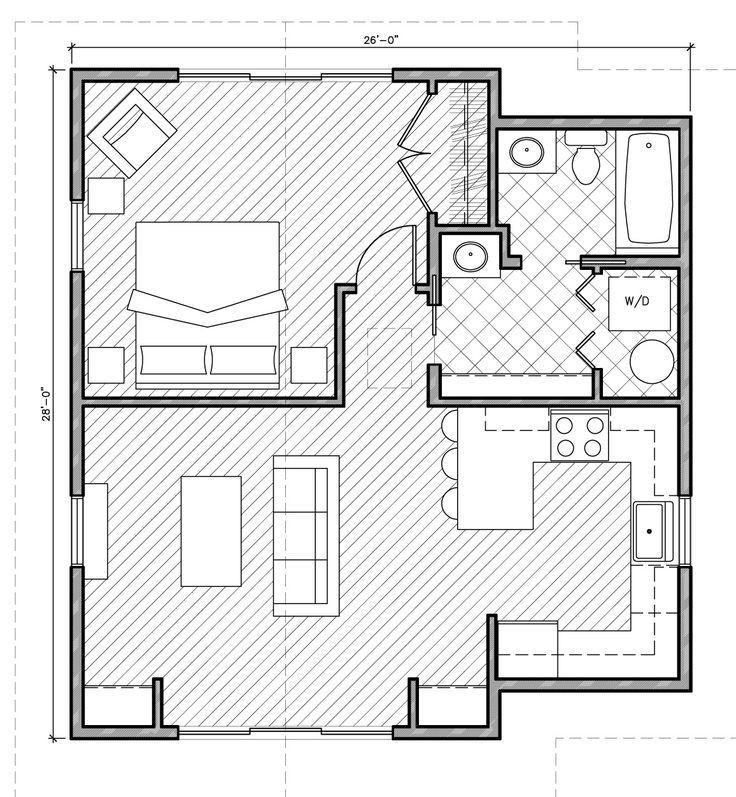door: (384, 94, 450, 222), (352, 215, 422, 294)
room: (60, 69, 702, 403), (62, 407, 687, 735)
wall: (674, 109, 699, 495), (74, 393, 348, 419), (492, 107, 696, 140), (423, 391, 698, 415), (498, 670, 693, 701), (66, 271, 91, 498), (67, 564, 90, 740), (68, 60, 178, 94), (481, 68, 504, 226), (484, 607, 510, 742), (328, 285, 356, 410), (66, 64, 90, 199), (390, 719, 509, 746), (673, 564, 696, 695), (68, 722, 181, 745), (392, 65, 504, 88), (425, 207, 443, 311), (143, 670, 169, 728), (402, 672, 423, 735), (426, 362, 446, 413), (584, 364, 607, 401)
window: (186, 722, 392, 745), (180, 64, 322, 92), (68, 491, 90, 574), (672, 500, 698, 568), (67, 200, 87, 276)
